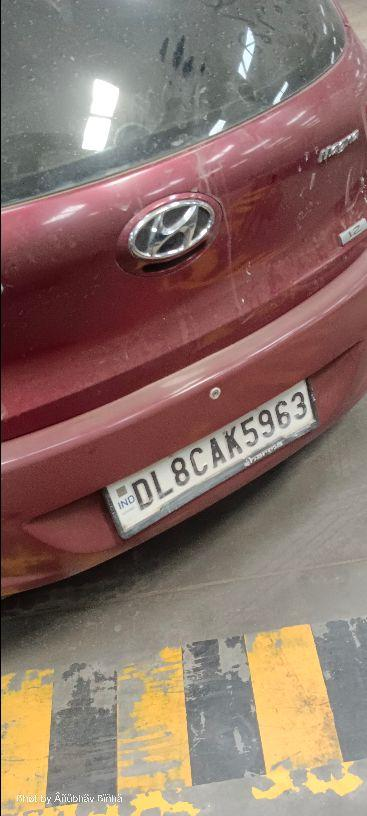license_plate: (100, 376, 319, 540)
